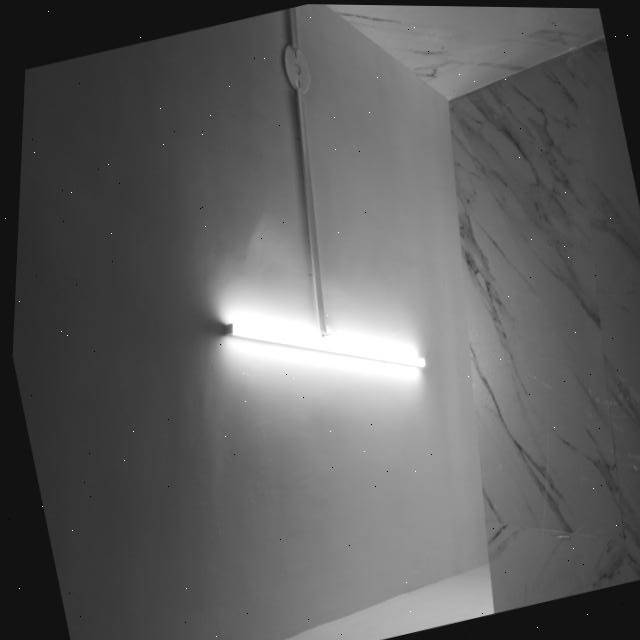fluorescent tube: (206, 265, 433, 422)
